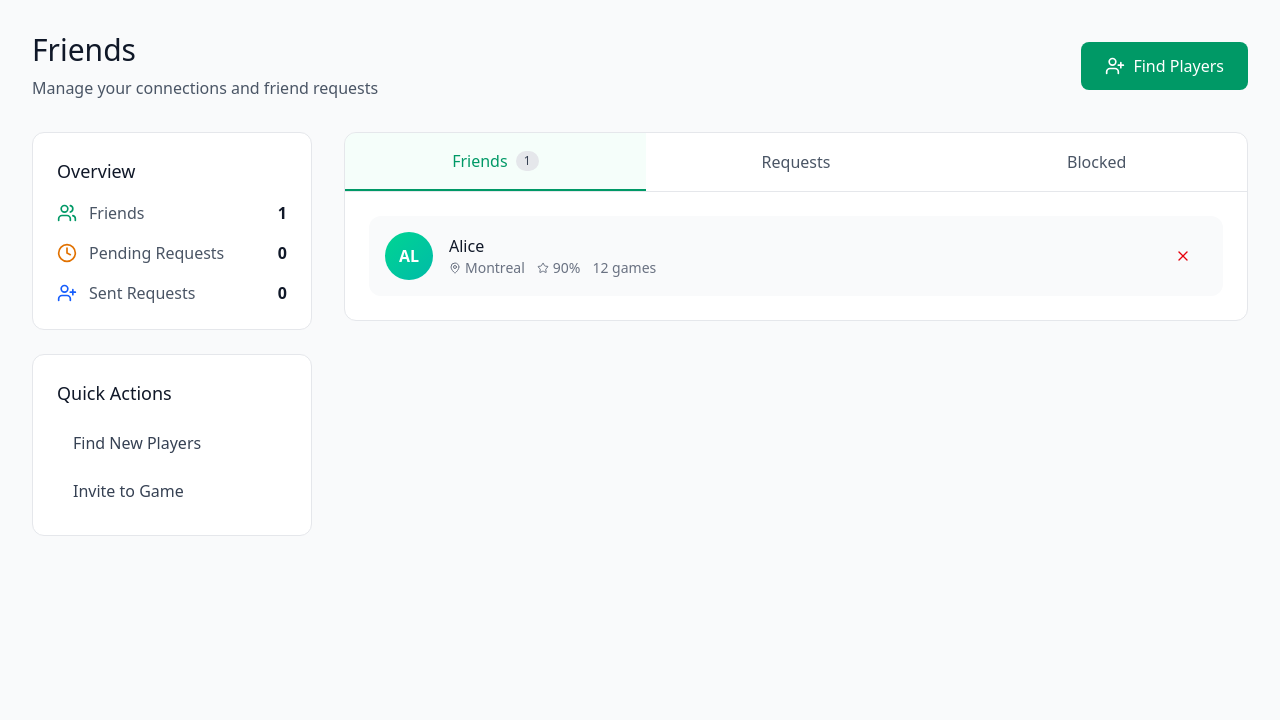
FriendsPage › removes a friend from the friends list
The width and height of the screenshot is (1280, 720).
Check: the heading "Friends" is shown, box [32, 29, 136, 70]
Click the 4th button. click: (1183, 256)
box: [1159, 240, 1207, 272]
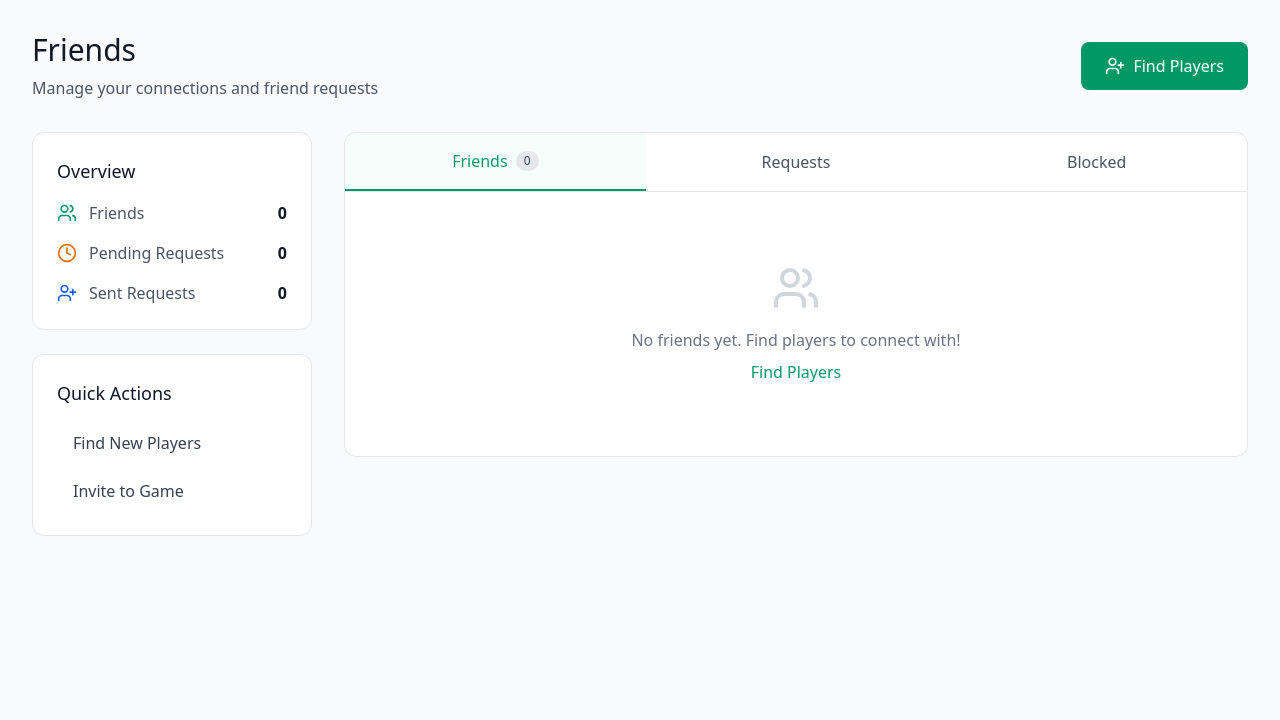
Check: the link "Alice" is gone
